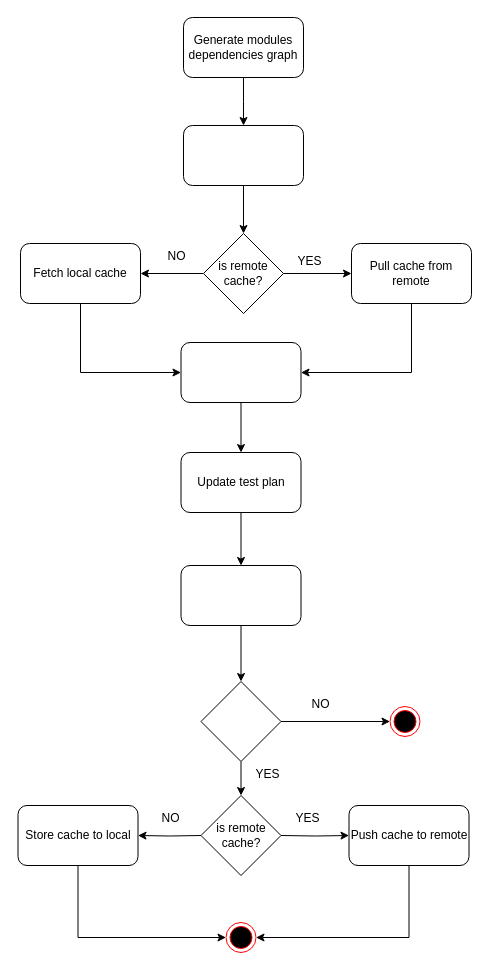
Image size: 489x970. Some labels were removed from this diagram. Each missing label, with the centre of its shape:
"Calculate affected test targets" belongs at [240,372].
"Generate all modules hashes" belongs at [243,155].
"is success?" belongs at [240,721].
"Run test" belongs at [240,595].
